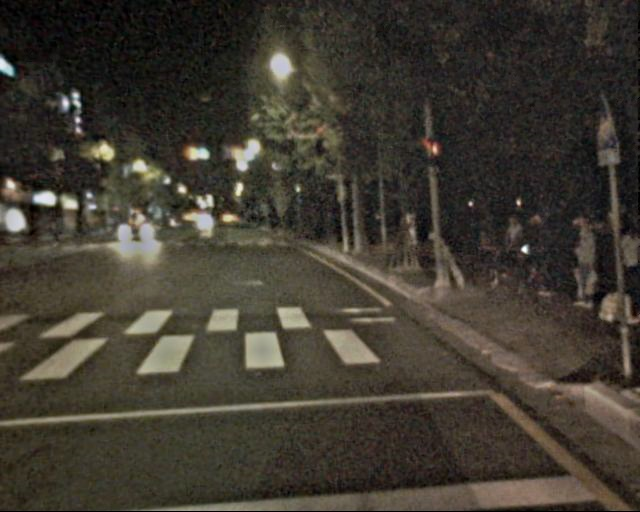person: (506, 209, 561, 295), (568, 206, 607, 302), (565, 216, 604, 311), (609, 214, 640, 325)
